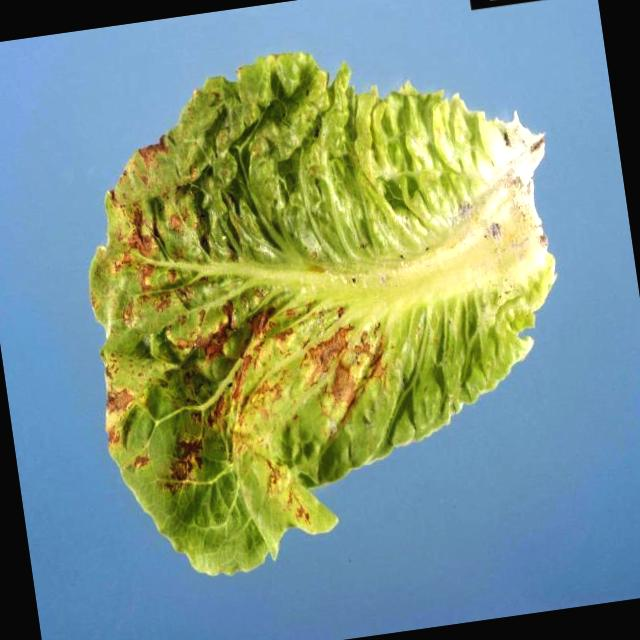Viral: (124, 130, 422, 469)
